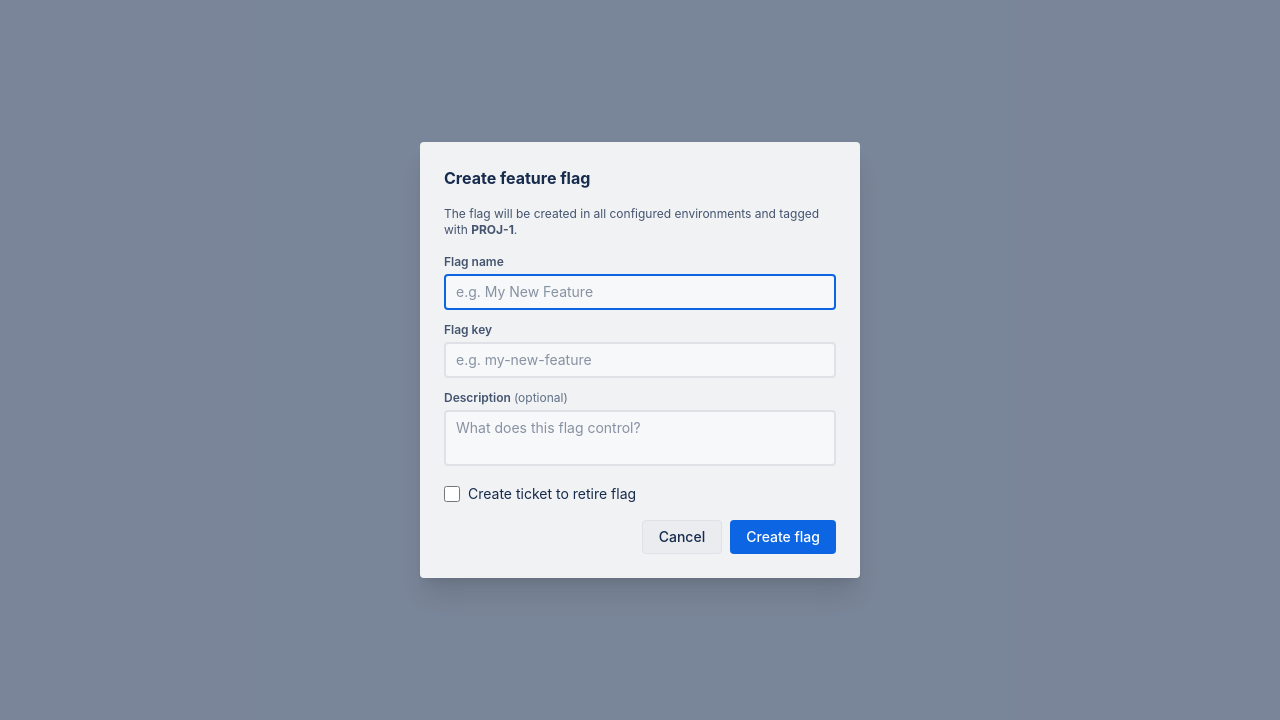
Test: CreateFlagModal › shows an error when submitted with no key
This screenshot has width=1280, height=720.
// Set name then clear the auto-generated key
Step 1. Type "My Flag" into the field with placeholder "e.g. My New Feature" → (640, 292), box [444,274,836,310]
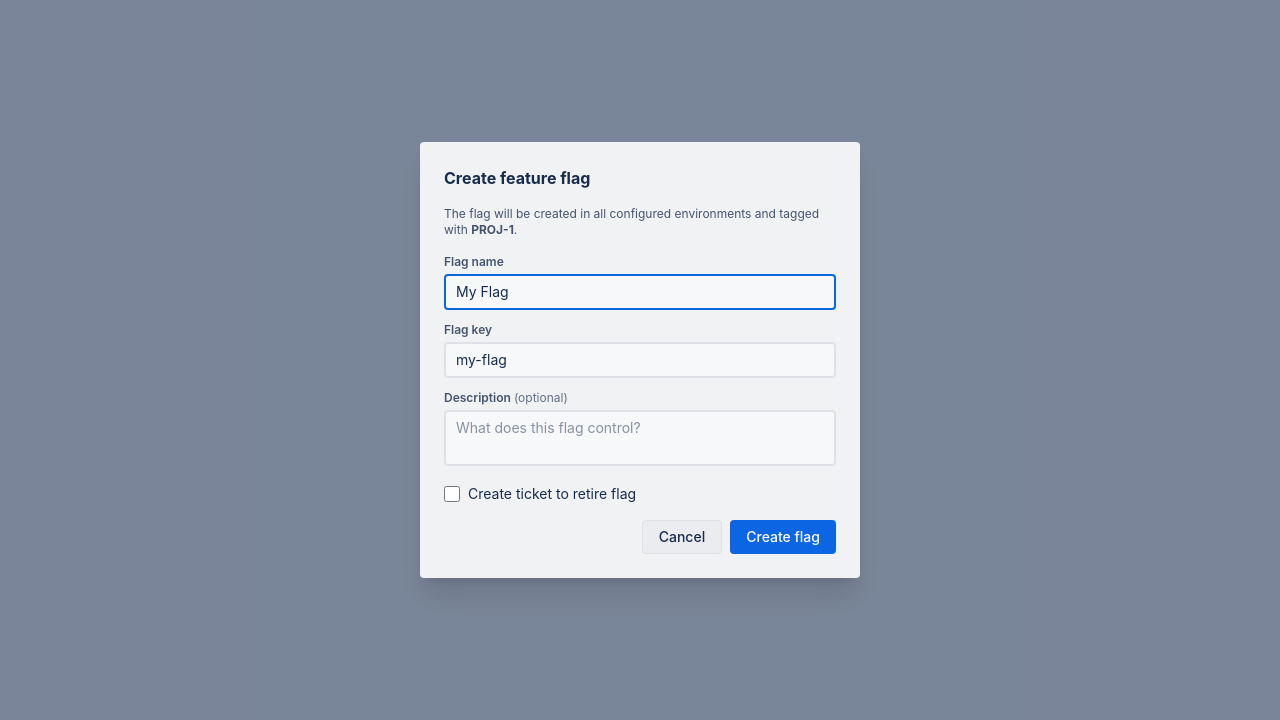
Step 2. Clear the 2nd field → (640, 360), box [444,342,836,378]
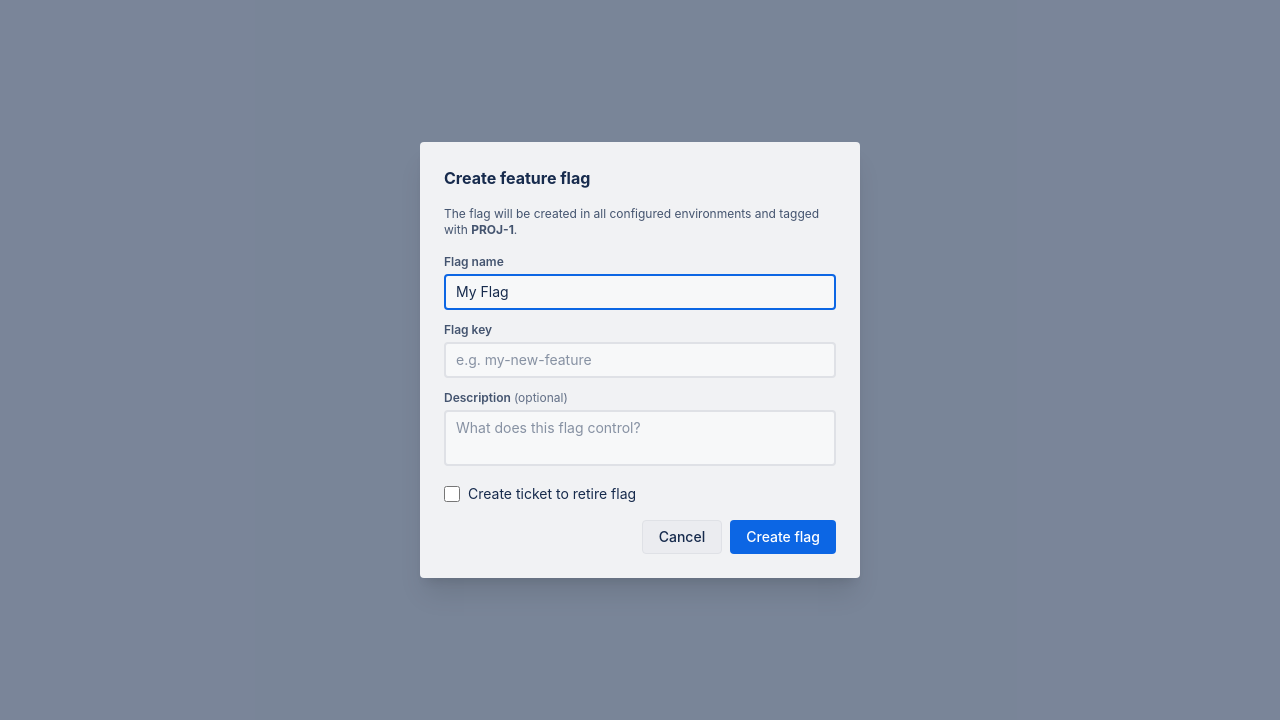
Step 3. Click the button "Create flag" → (783, 537), box [730,520,836,554]
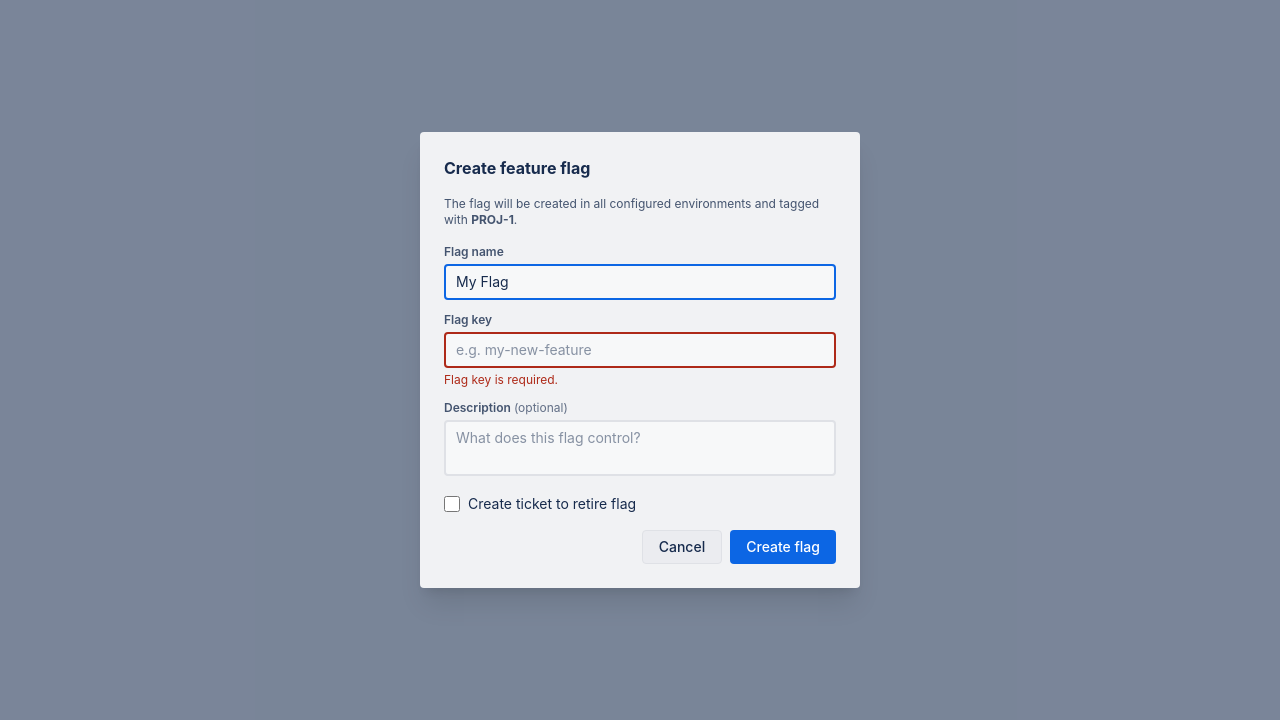
Expected: the text "Flag key is required" is shown, [444,372,558,387]
